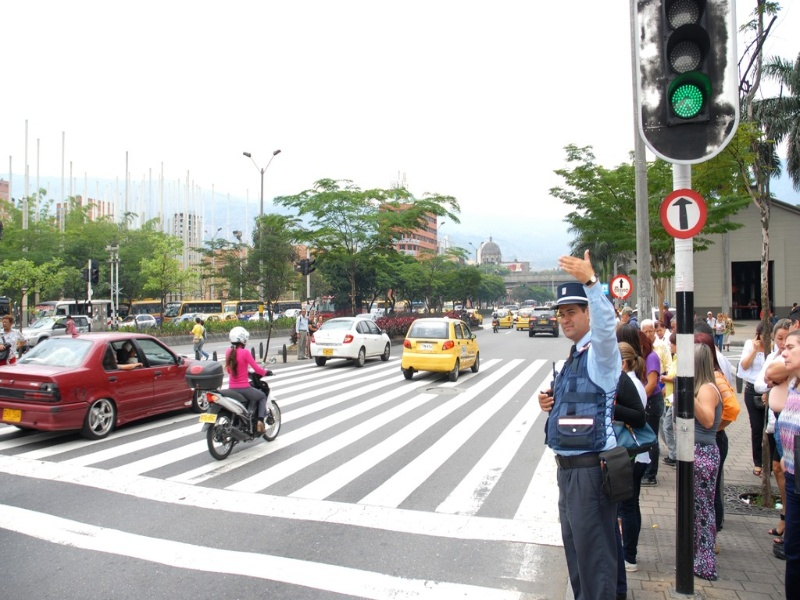green_light: (661, 74, 723, 136)
